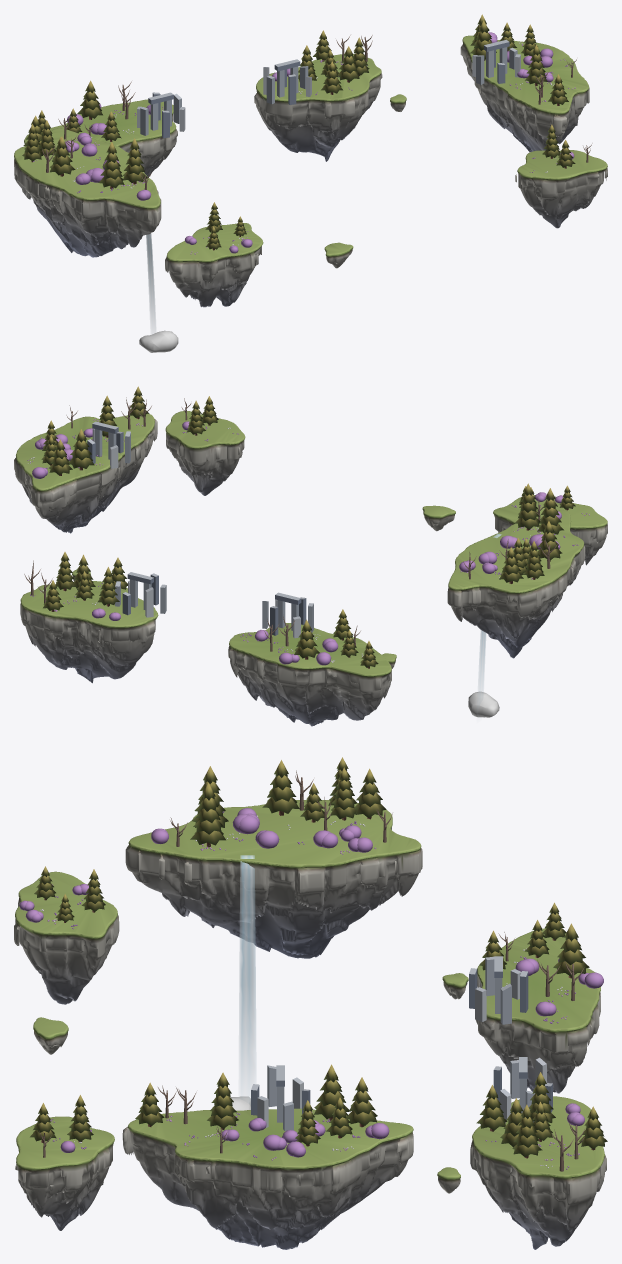
The model's file is stonecircle.glb.
3 renders of one model, top to bottom at view 1: azimuth 30°, elevation 25°; view 2: azimuth 150°, elevation 25°; view 3: azimuth 270°, elevation 25°, orthographic. The views are drawn at different scales.
Parts seen in each view (by area): view 1: decor_leaves, decor_m06, decor_m07, decor_m01, decor_m03, decor_m04, decor_solid, decor_m00, decor_trunks, clouds, waterfall, decor_s00; view 2: decor_leaves, decor_m00, decor_m06, decor_m01, decor_m07, decor_solid, decor_m04, decor_m03, decor_trunks, clouds, decor_s00; view 3: decor_m06, decor_m07, decor_leaves, decor_m01, decor_m00, decor_m03, decor_m04, decor_solid, waterfall, decor_trunks, decor_s00, decor_flowers.
Boxes of the visible parts, box(x1,y1,x2,y2) form: decor_leaves: box(22, 14, 575, 253); decor_m06: box(14, 128, 161, 257); decor_m07: box(460, 35, 589, 151); decor_m01: box(254, 54, 382, 161); decor_m03: box(165, 223, 263, 307); decor_m04: box(515, 150, 607, 228); decor_solid: box(137, 39, 520, 138); decor_m00: box(24, 99, 177, 176); decor_trunks: box(31, 35, 592, 250); clouds: box(139, 330, 178, 352); waterfall: box(146, 233, 155, 333); decor_s00: box(324, 242, 353, 268); decor_leaves: box(32, 386, 575, 667); decor_m00: box(228, 623, 391, 726); decor_m06: box(447, 510, 585, 658); decor_m01: box(20, 581, 158, 683); decor_m07: box(14, 413, 157, 533); decor_solid: box(84, 421, 313, 638); decor_m04: box(165, 411, 245, 495); decor_m03: box(493, 495, 607, 565); decor_trunks: box(24, 397, 568, 668); clouds: box(468, 691, 499, 717); decor_s00: box(422, 505, 455, 531); decor_m06: box(125, 800, 422, 958); decor_m07: box(122, 1108, 413, 1249); decor_leaves: box(19, 757, 607, 1157); decor_m01: box(470, 1096, 606, 1249); decor_m00: box(476, 928, 600, 1093); decor_m03: box(14, 871, 119, 1004); decor_m04: box(15, 1116, 114, 1230); decor_solid: box(251, 956, 552, 1131); waterfall: box(239, 855, 255, 1103); decor_trunks: box(39, 770, 595, 1171); decor_s00: box(33, 1017, 68, 1054); decor_flowers: box(40, 811, 590, 1169).
Bounding box in the file's own units: 35.38 × 15.04 × 24.53.
